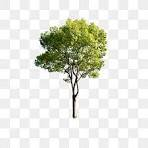plant: (37, 19, 110, 120)
